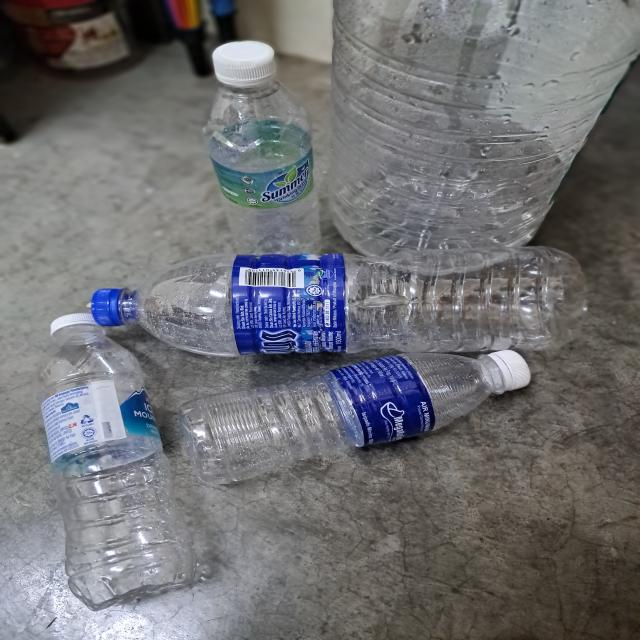plastic bottle: (333, 2, 640, 278), (29, 335, 203, 605), (150, 254, 593, 356), (194, 358, 493, 484), (208, 89, 325, 254)
plastic bottle cap: (214, 36, 272, 88), (486, 344, 532, 396), (92, 285, 128, 329), (50, 309, 99, 334)
